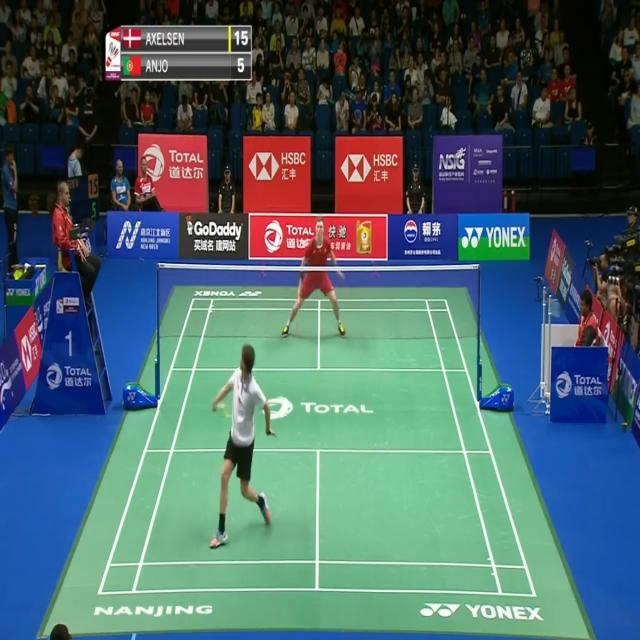Player1: (203, 337, 279, 554)
Player2: (281, 215, 349, 349)
